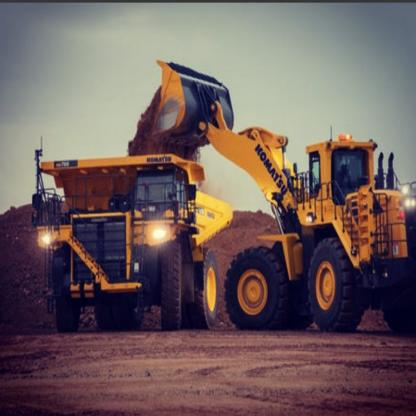bull_dozer/loader/grader: (154, 48, 416, 343)
